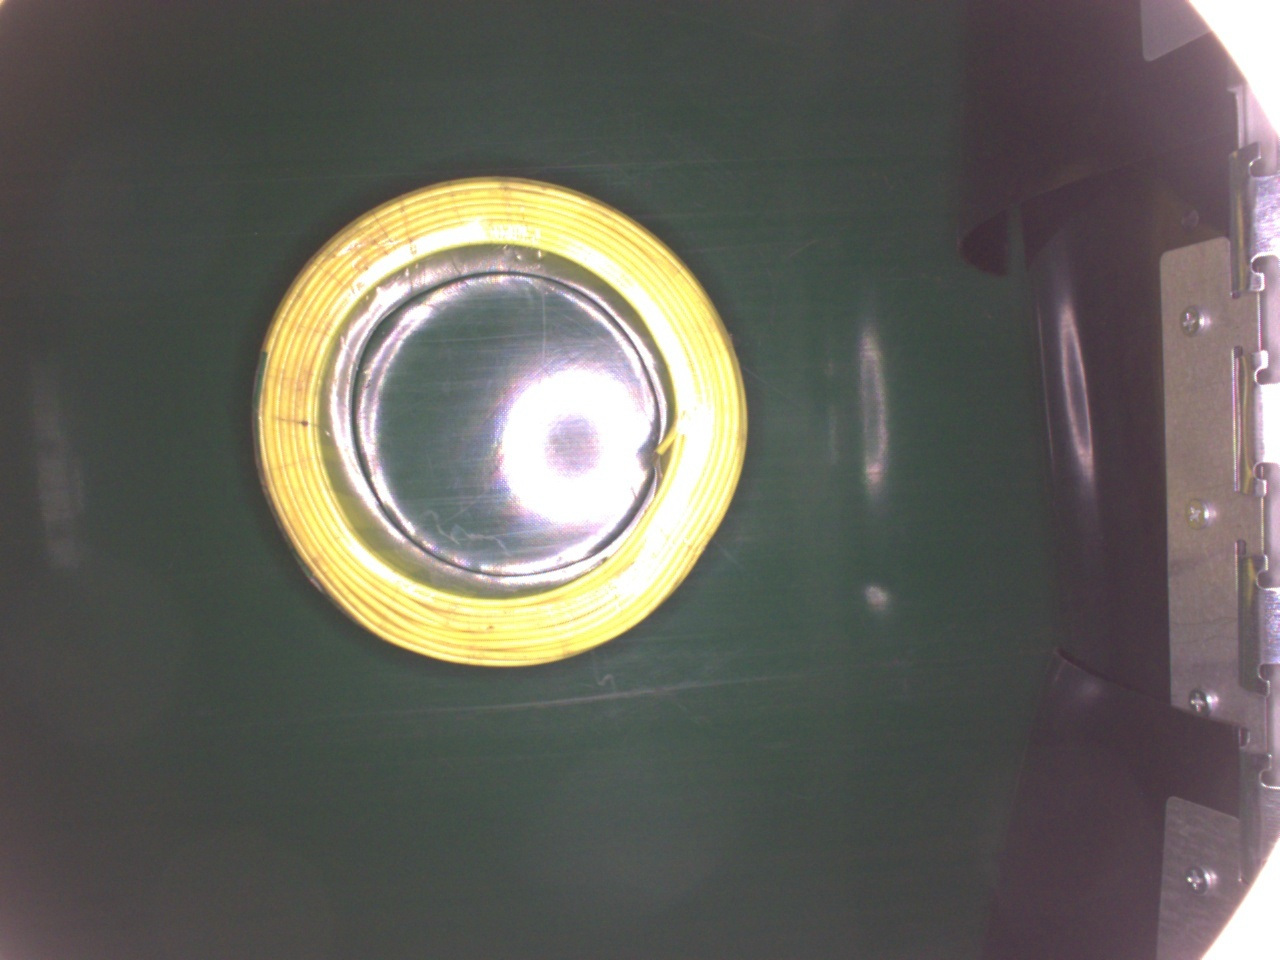yellow: (251, 175, 746, 671)
